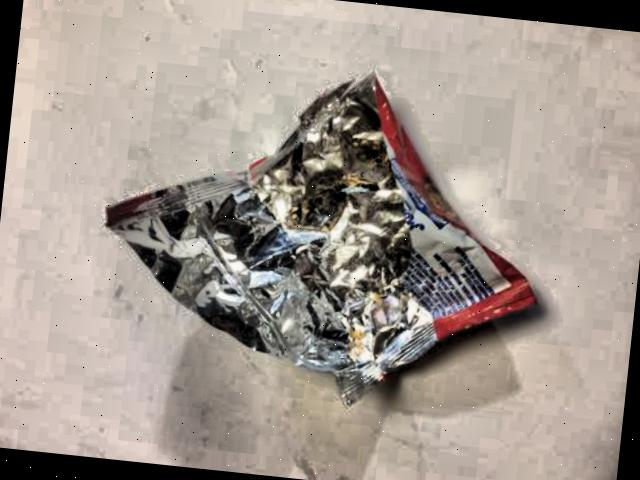Plastic: (67, 46, 584, 442)
